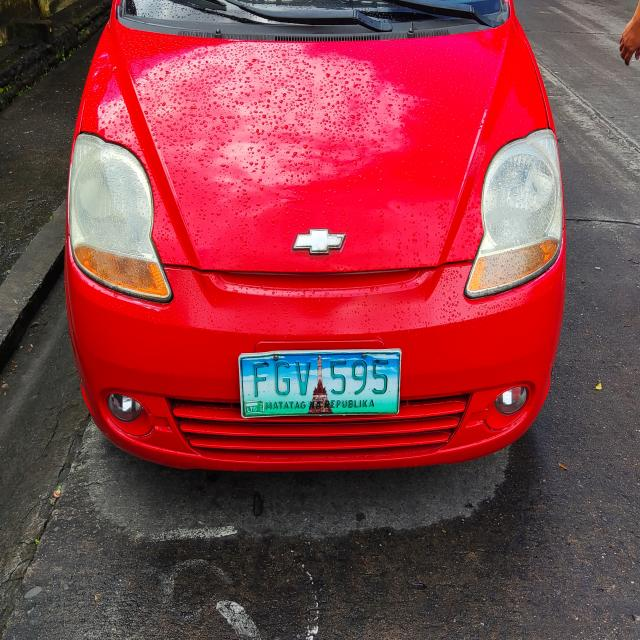plate: (235, 343, 408, 423)
